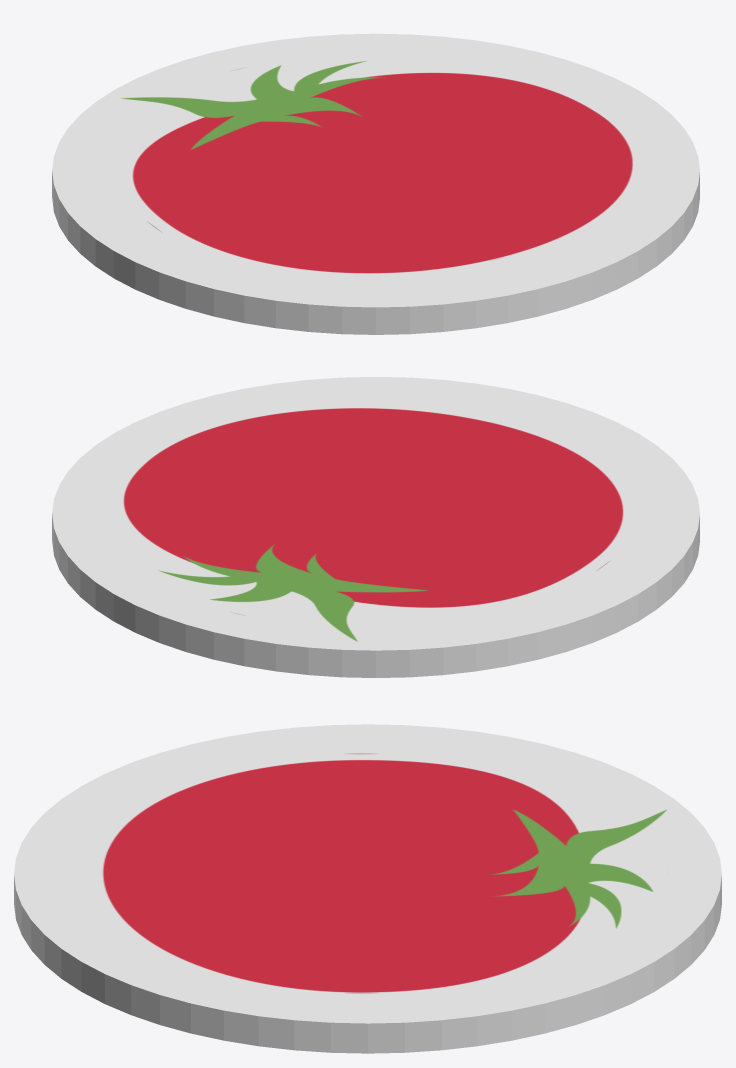
The model's file is domado.glb.
The picture shows the model from 3 angles, top to bottom: view 1: azimuth 30°, elevation 25°; view 2: azimuth 150°, elevation 25°; view 3: azimuth 270°, elevation 25°; orthographic projection. The views are drawn at different scales.
Visible parts, largest first — view 1: 001_Rectangle, 000_Circle; view 2: 001_Rectangle, 000_Circle; view 3: 001_Rectangle, 000_Circle.
Boxes of the visible parts, <box> form: 001_Rectangle: <box>121,61,632,273</box>; 000_Circle: <box>52,33,699,334</box>; 001_Rectangle: <box>123,408,623,641</box>; 000_Circle: <box>52,377,699,677</box>; 001_Rectangle: <box>103,753,666,993</box>; 000_Circle: <box>14,724,721,1053</box>.
Bounding box in the file's own units: 640 × 31 × 640.
2 materials, 1 textured.
